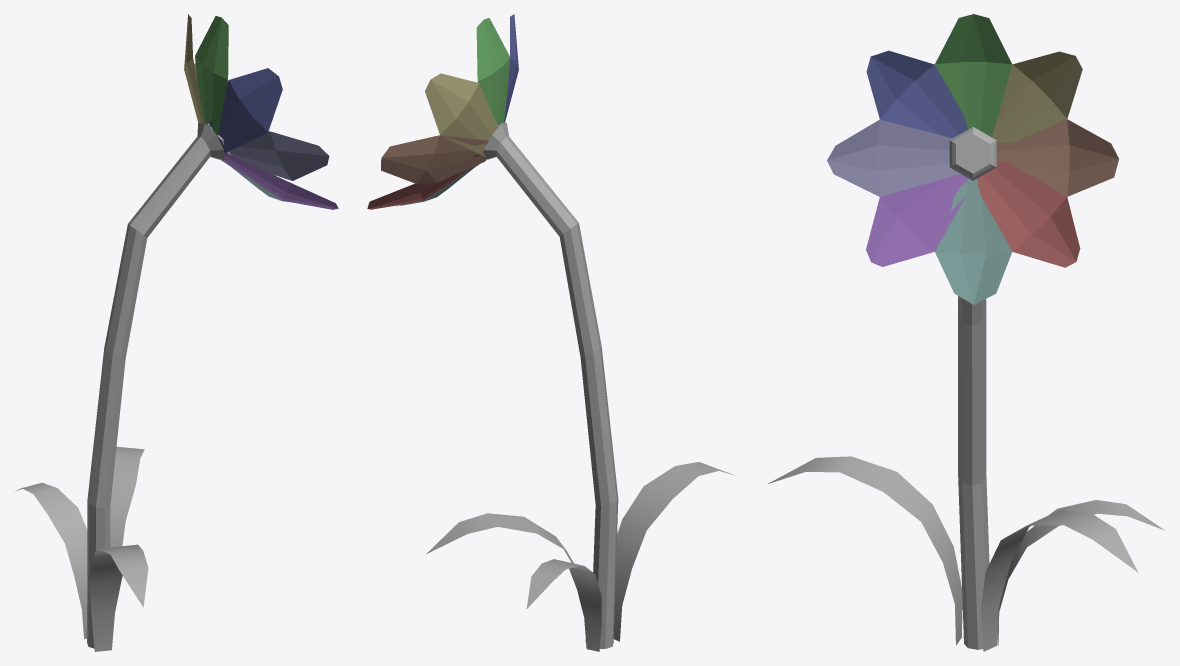
File: Flores var1.fbx
3 renders of one model, left to right at view 1: azimuth 30°, elevation 25°; view 2: azimuth 150°, elevation 25°; view 3: azimuth 270°, elevation 25°, orthographic. The views are drawn at different scales.
Visible parts, largest first — view 1: petalas_geo, caule_geo, mato_geo1; view 2: caule_geo, petalas_geo, mato_geo1; view 3: petalas_geo, mato_geo1, caule_geo, botao_geo.
Boxes of the visible parts, bbox=[...] form: petalas_geo: bbox=[184, 14, 338, 209]; caule_geo: bbox=[87, 122, 224, 648]; mato_geo1: bbox=[15, 446, 148, 651]; caule_geo: bbox=[482, 122, 618, 648]; petalas_geo: bbox=[367, 14, 518, 209]; mato_geo1: bbox=[426, 462, 734, 651]; petalas_geo: bbox=[827, 14, 1118, 304]; mato_geo1: bbox=[768, 456, 1164, 651]; caule_geo: bbox=[958, 296, 989, 649]; botao_geo: bbox=[949, 127, 996, 180].
Size of the model in its own units: 0.6612 by 1.49 by 0.7724.
